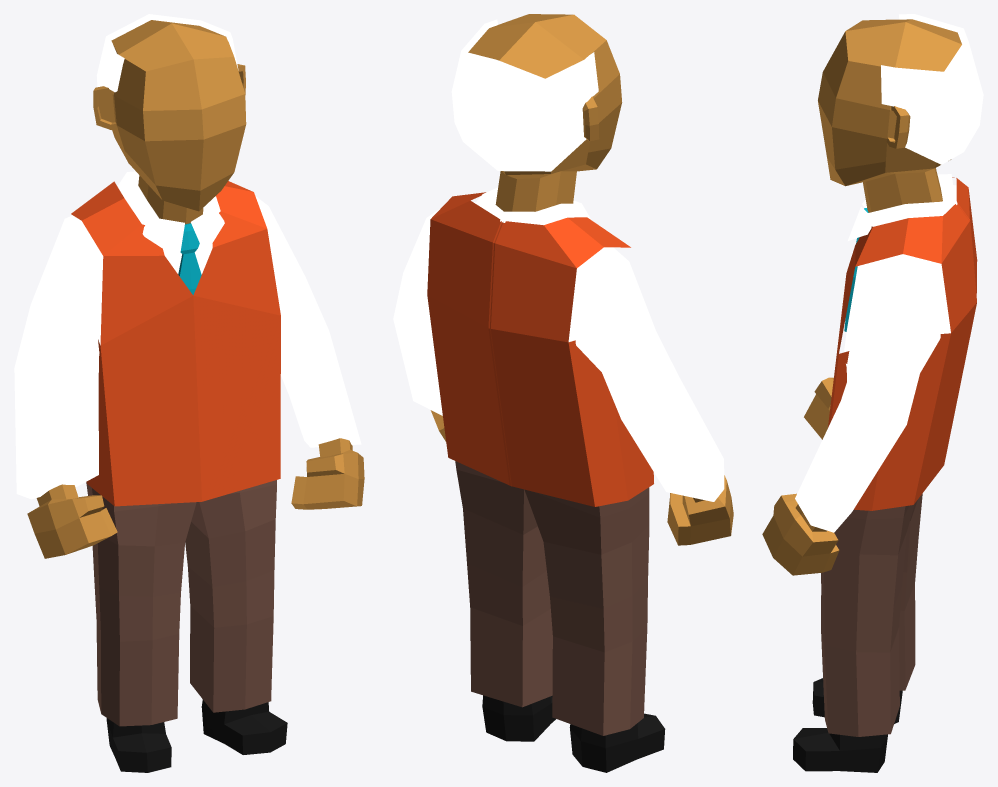
File: teacher.glb
3 renders of one model, left to right at view 1: azimuth 30°, elevation 25°; view 2: azimuth 150°, elevation 25°; view 3: azimuth 270°, elevation 25°, orthographic. The views are drawn at different scales.
Visible parts, largest first — view 1: Buffer Layer (×6); view 2: Buffer Layer (×5); view 3: Buffer Layer (×5).
Boxes of the visible parts, x1,y1,x2,y2 form: Buffer Layer (×6): (14,14,364,772); Buffer Layer (×5): (393,14,733,772); Buffer Layer (×5): (762,14,983,772).
Size of the model in its own units: 0.2601 by 0.556 by 0.1547.
